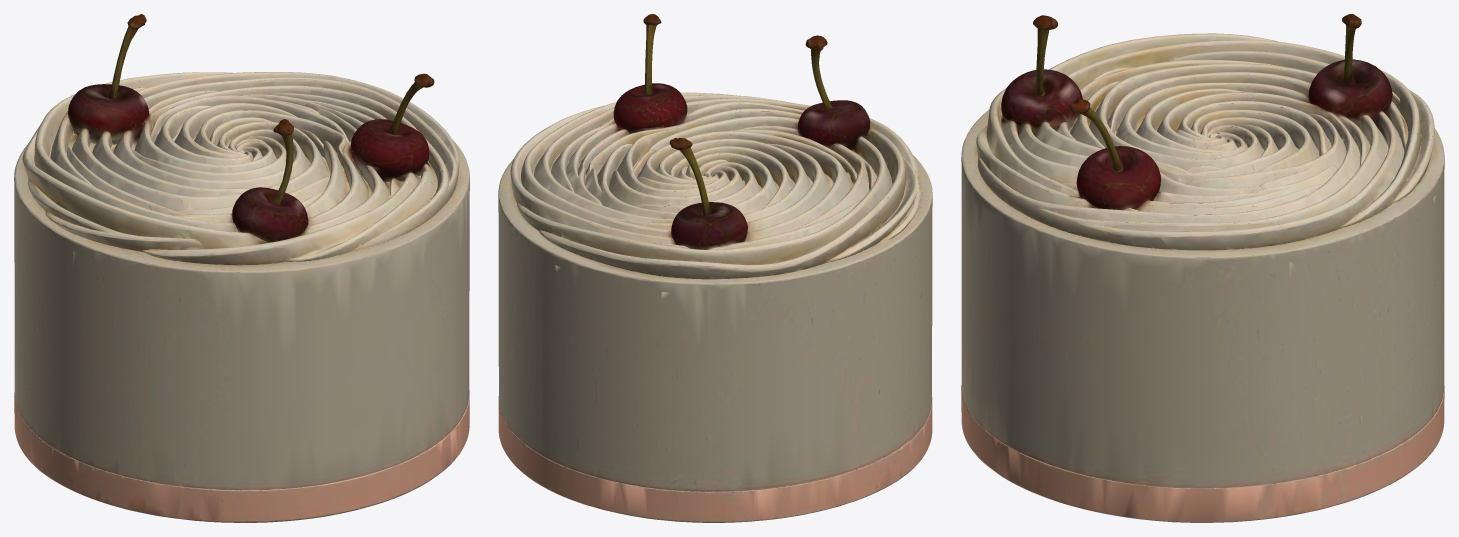
Rendered from cake-01-ivory-spiral.glb.
3 views of the same model, side by side, from view 1: azimuth 30°, elevation 25°; view 2: azimuth 150°, elevation 25°; view 3: azimuth 270°, elevation 25° (orthographic). The views are drawn at different scales.
Visible parts, largest first — view 1: cake-01; view 2: cake-01; view 3: cake-01.
Boxes of the visible parts, bbox=[...] form: cake-01: bbox=[14, 14, 469, 522]; cake-01: bbox=[498, 14, 932, 522]; cake-01: bbox=[961, 14, 1444, 522].
Bounding box in the file's own units: 2 × 1.79 × 2.
Materials: 1 (1 with a texture image).
